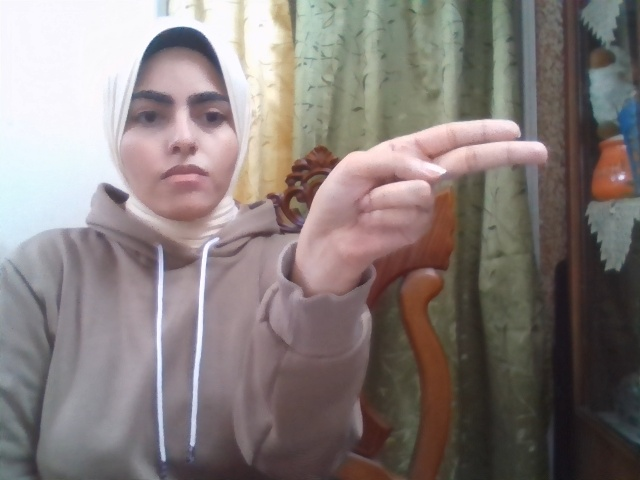H: (301, 118, 548, 266)
